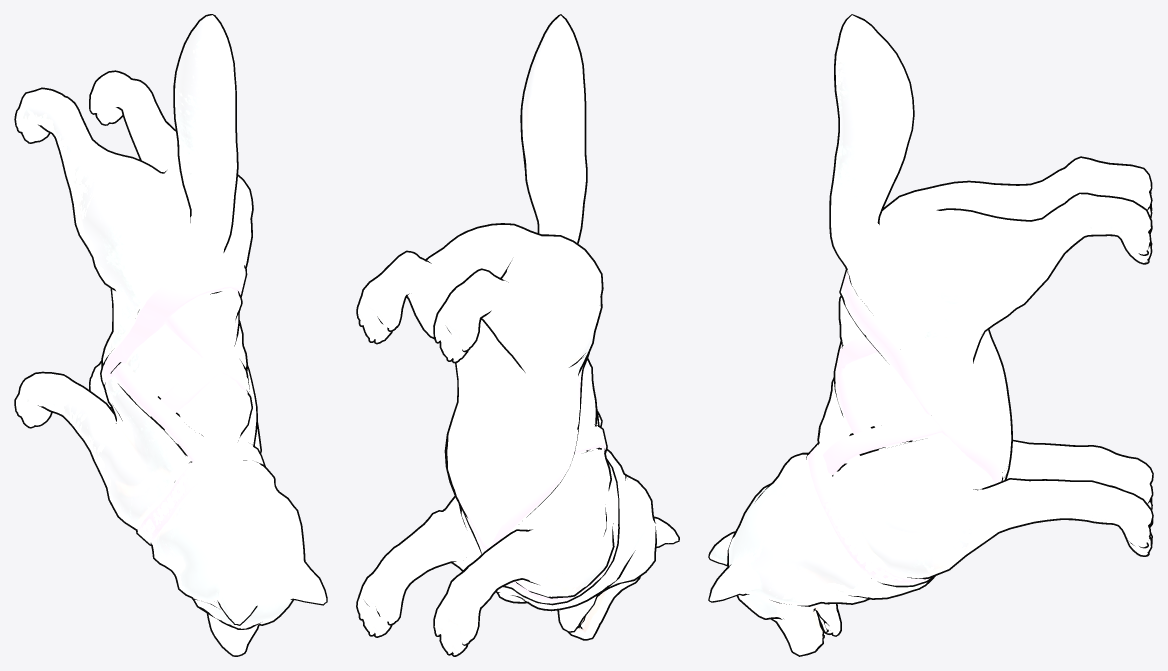
File: malamute_02.glb
3 renders of one model, left to right at view 1: azimuth 30°, elevation 25°; view 2: azimuth 150°, elevation 25°; view 3: azimuth 270°, elevation 25°, orthographic. The views are drawn at different scales.
Visible parts, largest first — view 1: dog_low.002; view 2: dog_low.002; view 3: dog_low.002.
Part boxes in pixels (bbox=[...]): dog_low.002: bbox=[14, 14, 327, 656]; dog_low.002: bbox=[356, 14, 679, 656]; dog_low.002: bbox=[708, 14, 1153, 656].
Bounding box in the file's own units: 149 × 593 × 373.
Materials: 2 (1 with a texture image).
